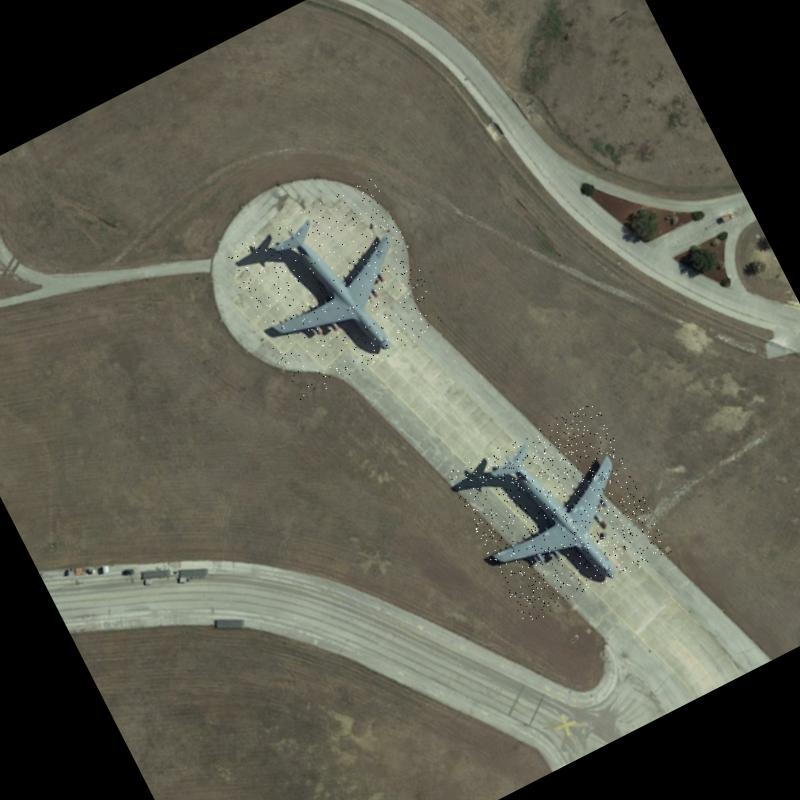A4: (222, 176, 449, 403), (446, 398, 671, 626)
